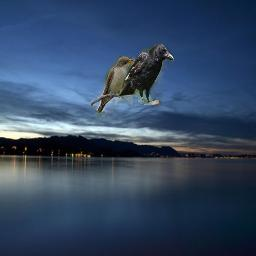Crow: (118, 44, 174, 105)
Cuckoo: (91, 56, 135, 122)
